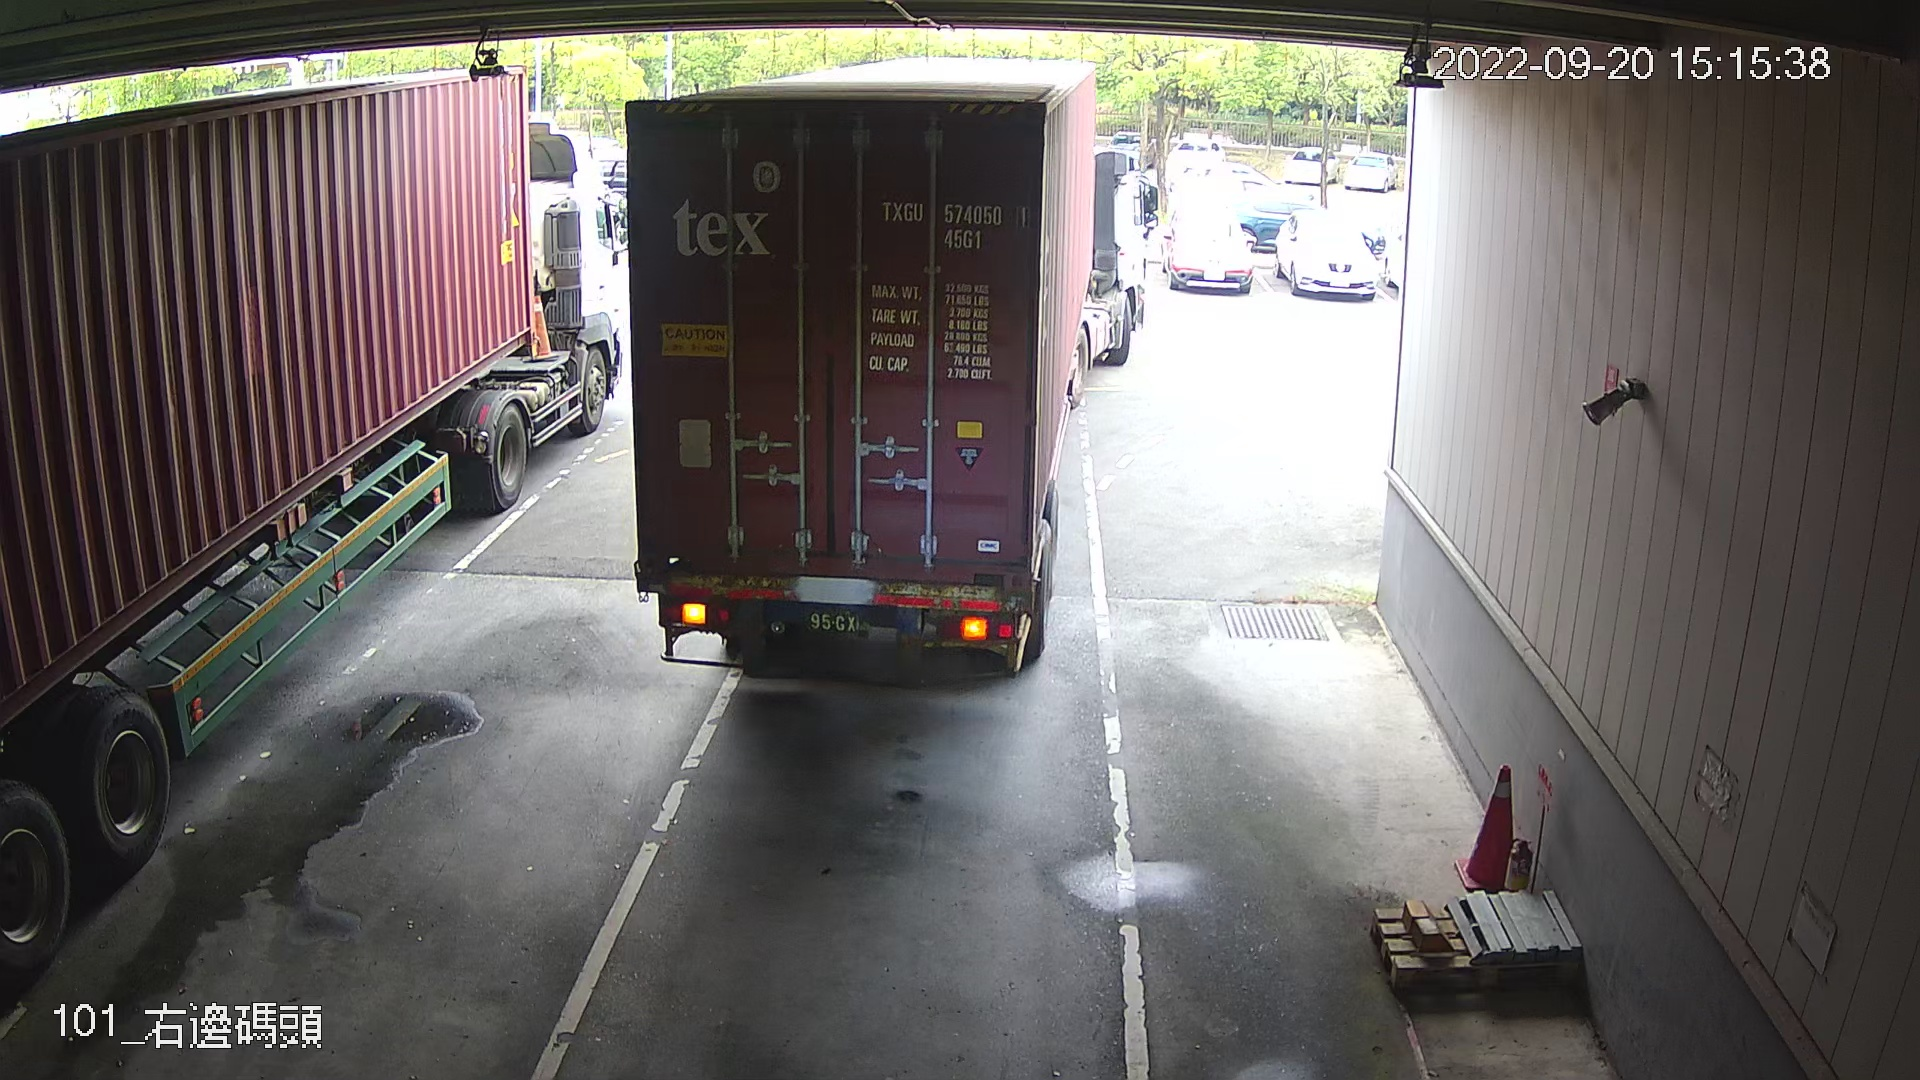container: (870, 189, 1035, 260)
